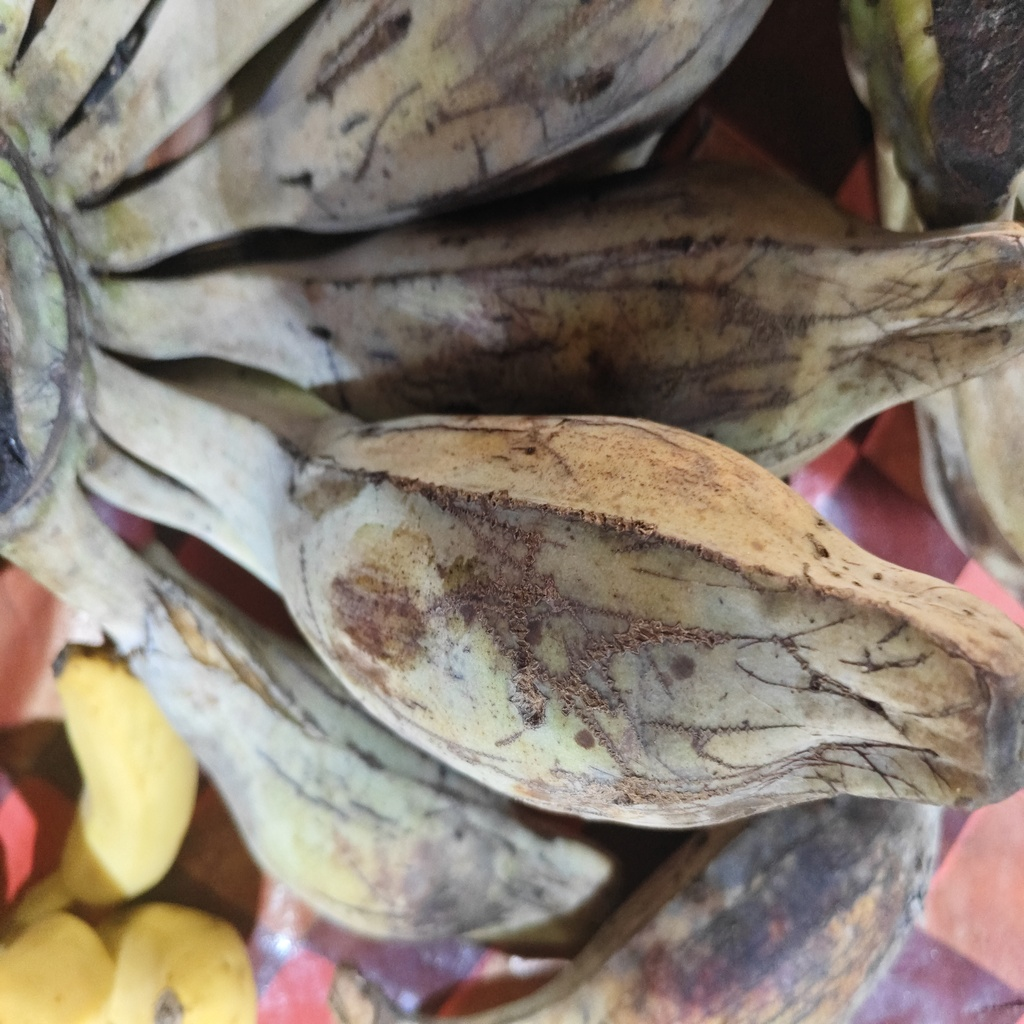unhealthy: (287, 409, 1015, 832), (268, 157, 1024, 476)
